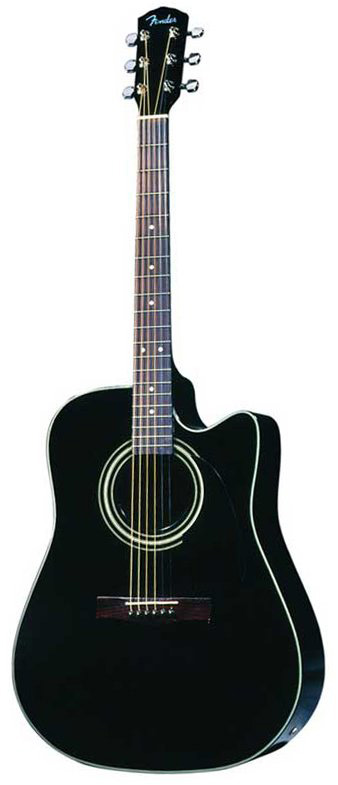guitar: (14, 6, 325, 773)
